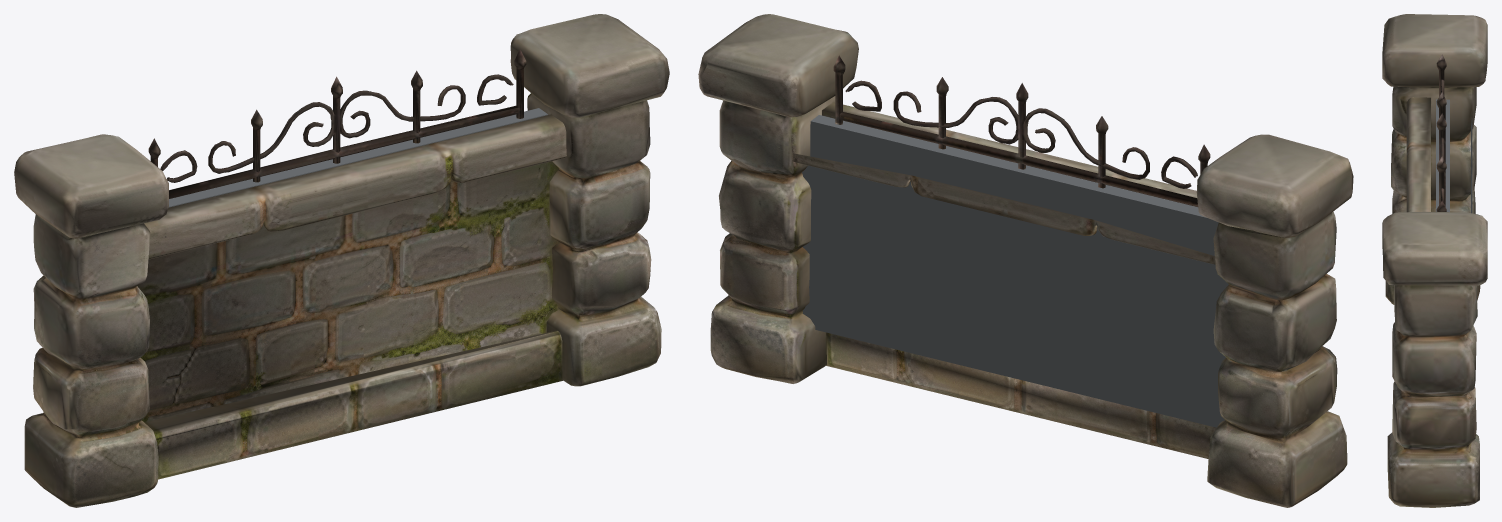
File: muro-pedra.glb
3 renders of one model, left to right at view 1: azimuth 30°, elevation 25°; view 2: azimuth 150°, elevation 25°; view 3: azimuth 270°, elevation 25°, orthographic. The views are drawn at different scales.
Visible parts, largest first — view 1: tripo_node_c56a33ce-5a1b-4a5d-9bb5-de8b0ea3d526, muro-pedra-interior-masonry; view 2: tripo_node_c56a33ce-5a1b-4a5d-9bb5-de8b0ea3d526, muro-pedra-interior-masonry; view 3: tripo_node_c56a33ce-5a1b-4a5d-9bb5-de8b0ea3d526, muro-pedra-interior-masonry.
Part boxes in pixels (x1=…): tripo_node_c56a33ce-5a1b-4a5d-9bb5-de8b0ea3d526: x1=14, y1=14, x2=669, y2=507; muro-pedra-interior-masonry: x1=168, y1=108, x2=547, y2=207; tripo_node_c56a33ce-5a1b-4a5d-9bb5-de8b0ea3d526: x1=698, y1=14, x2=1353, y2=507; muro-pedra-interior-masonry: x1=802, y1=115, x2=1228, y2=427; tripo_node_c56a33ce-5a1b-4a5d-9bb5-de8b0ea3d526: x1=1382, y1=14, x2=1487, y2=507; muro-pedra-interior-masonry: x1=1436, y1=99, x2=1449, y2=212.
Size of the model in its own units: 0.998 by 0.541 by 0.1855.
Materials: 3 (1 with a texture image).
